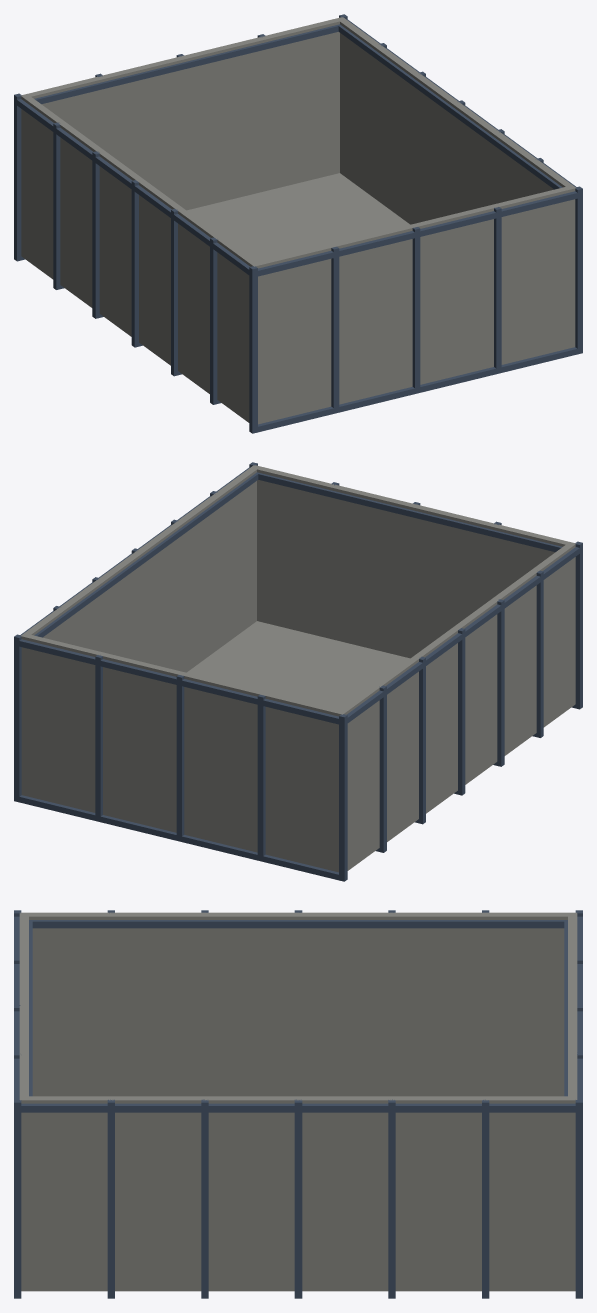
Rendered from ak1_frame.obj.
3 views of the same model, one above another, from view 1: azimuth 30°, elevation 25°; view 2: azimuth 150°, elevation 25°; view 3: azimuth 270°, elevation 25° (orthographic). The views are drawn at different scales.
Parts seen in each view (by area): view 1: ak1_frame; view 2: ak1_frame; view 3: ak1_frame.
Boxes of the visible parts, x1=… form: ak1_frame: x1=14, y1=14, x2=582, y2=433; ak1_frame: x1=14, y1=462, x2=582, y2=881; ak1_frame: x1=14, y1=910, x2=582, y2=1298.
Bounding box in the file's own units: 4.87 × 2.31 × 6.08.
